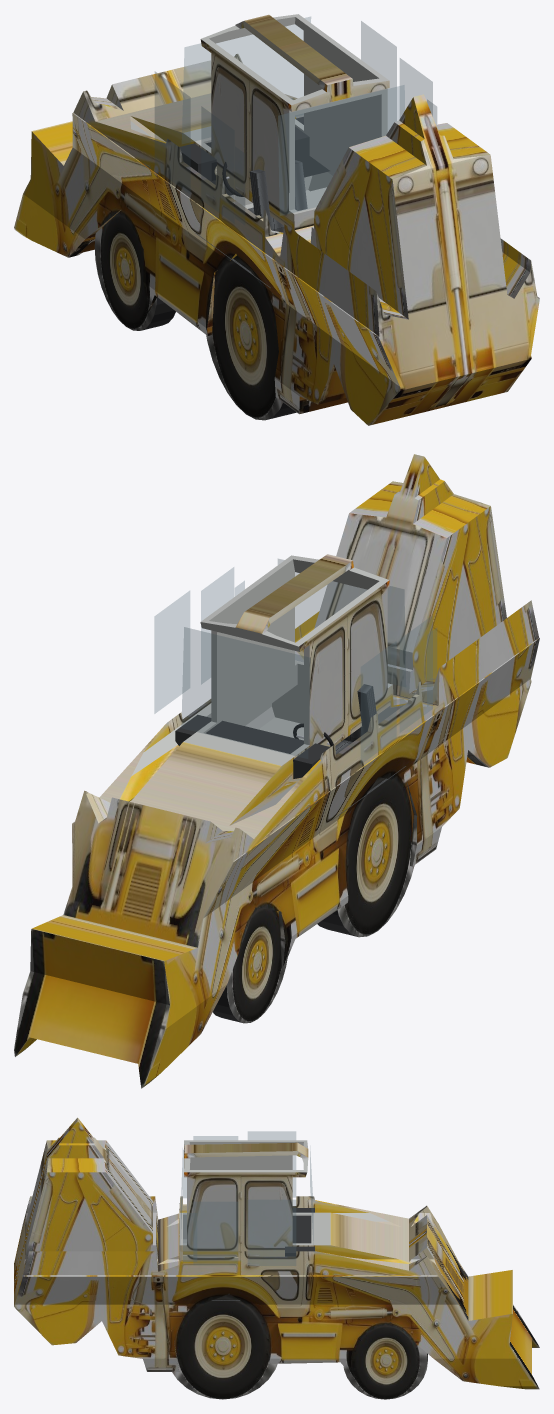
File: backhoe_loader.glb
3 renders of one model, top to bottom at view 1: azimuth 30°, elevation 25°; view 2: azimuth 150°, elevation 25°; view 3: azimuth 270°, elevation 25°, orthographic. The views are drawn at different scales.
Parts seen in each view (by area): view 1: backhoe_loader, backhoe_loader_cabin, wheel_BL, wheel_FL; view 2: backhoe_loader, backhoe_loader_cabin, wheel_BL, wheel_FL; view 3: backhoe_loader, wheel_BR, backhoe_loader_cabin, wheel_FR.
Part boxes in pixels (x1,y1,x2,y2): backhoe_loader: (14,14,539,425); backhoe_loader_cabin: (155,17,436,287); wheel_BL: (206,255,296,420); wheel_FL: (94,210,175,330); backhoe_loader: (14,454,539,1088); backhoe_loader_cabin: (154,559,436,820); wheel_BL: (317,772,414,937); wheel_FL: (213,907,287,1023); backhoe_loader: (14,1117,539,1389); wheel_BR: (172,1293,277,1399); backhoe_loader_cabin: (181,1131,314,1300); wheel_FR: (343,1322,427,1399).
Bounding box in the file's own units: 2.14 × 3.78 × 6.98.
12 materials, 4 textured.
